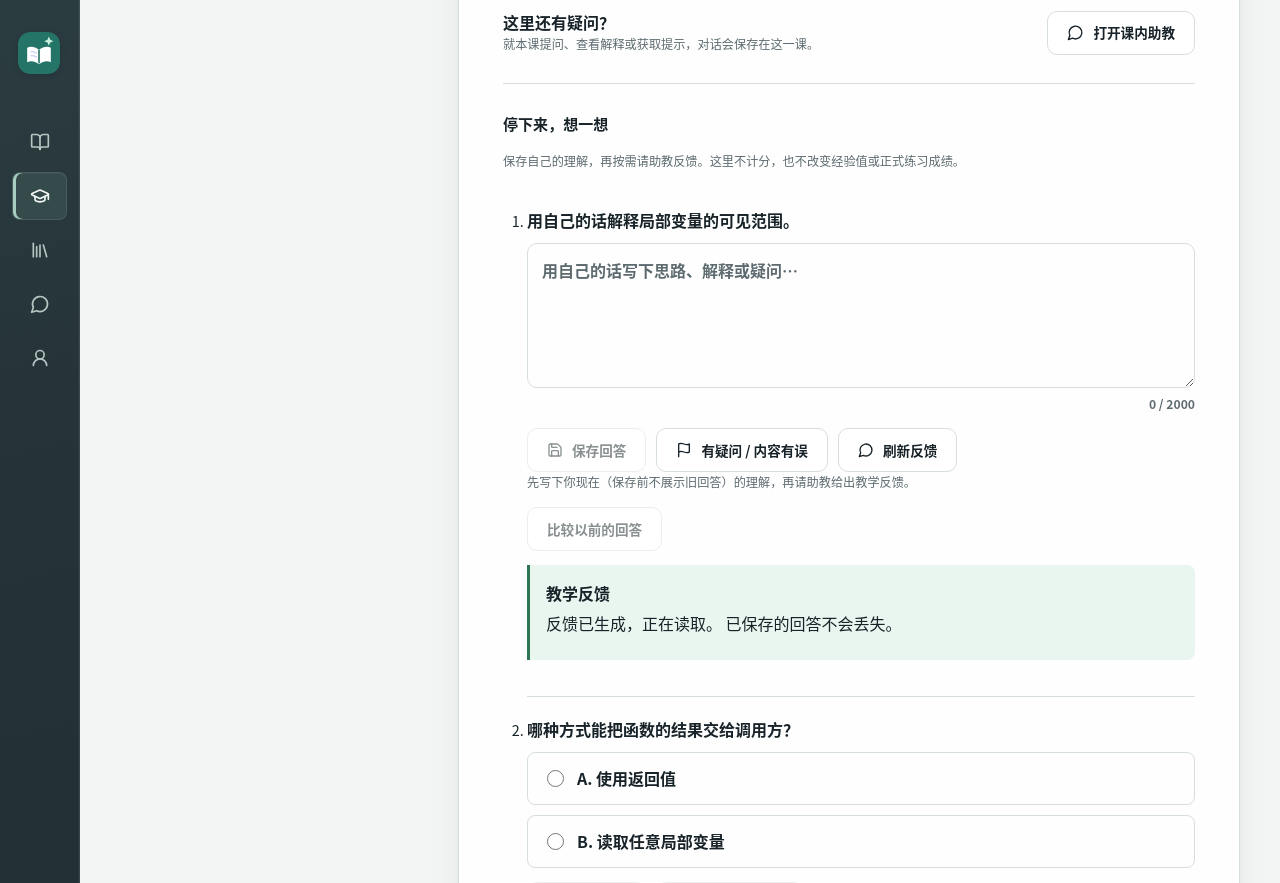
Test: saved self checks and teaching feedback › reads completed feedback until its answer arrives without creating another tutor task
(page scrolled)
Expected: the text "反馈已生成，正在读取。 已保存的回答不会丢失。" is shown, [546, 611, 902, 635]
Click the button "刷新反馈". click: click(898, 450)
box: [838, 428, 957, 472]
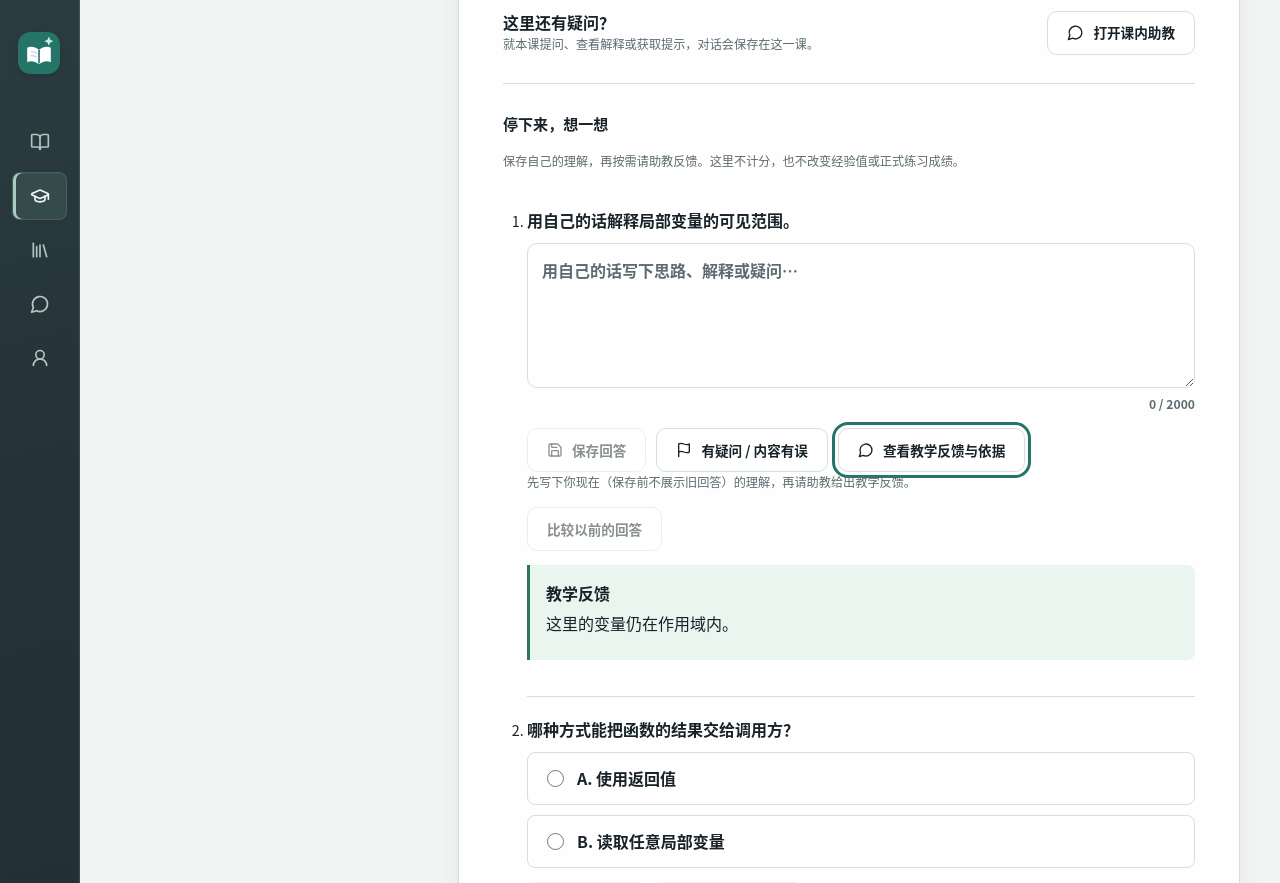
Expected: the text "这里的变量仍在作用域内。" is shown, [546, 611, 738, 635]
